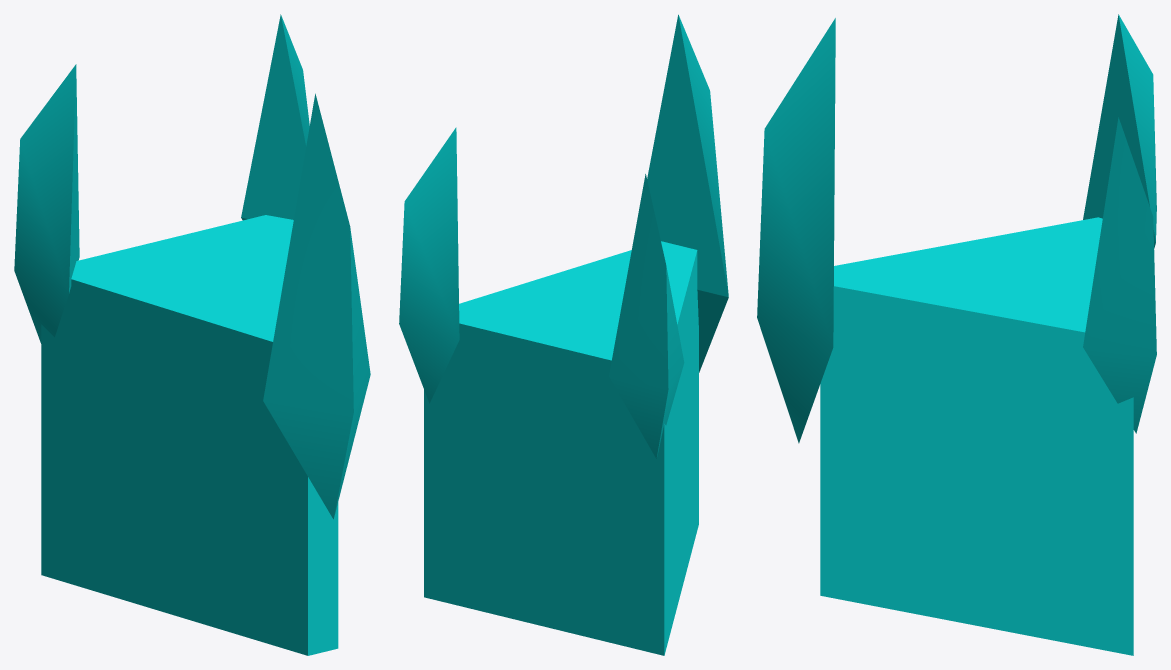
Rendered from SM_Bld_Corner_Tower_03_Collision.fbx.
3 views of the same model, side by side, from view 1: azimuth 30°, elevation 25°; view 2: azimuth 150°, elevation 25°; view 3: azimuth 270°, elevation 25° (orthographic). The views are drawn at different scales.
Parts seen in each view (by area): view 1: SM_Bld_Corner_Tower_03_Collision; view 2: SM_Bld_Corner_Tower_03_Collision; view 3: SM_Bld_Corner_Tower_03_Collision.
Boxes of the visible parts, left/top/right/bottom form: SM_Bld_Corner_Tower_03_Collision: left=14, top=14, right=370, bottom=655; SM_Bld_Corner_Tower_03_Collision: left=399, top=14, right=728, bottom=655; SM_Bld_Corner_Tower_03_Collision: left=757, top=14, right=1156, bottom=655.
Size of the model in its own units: 435 by 794 by 502.
